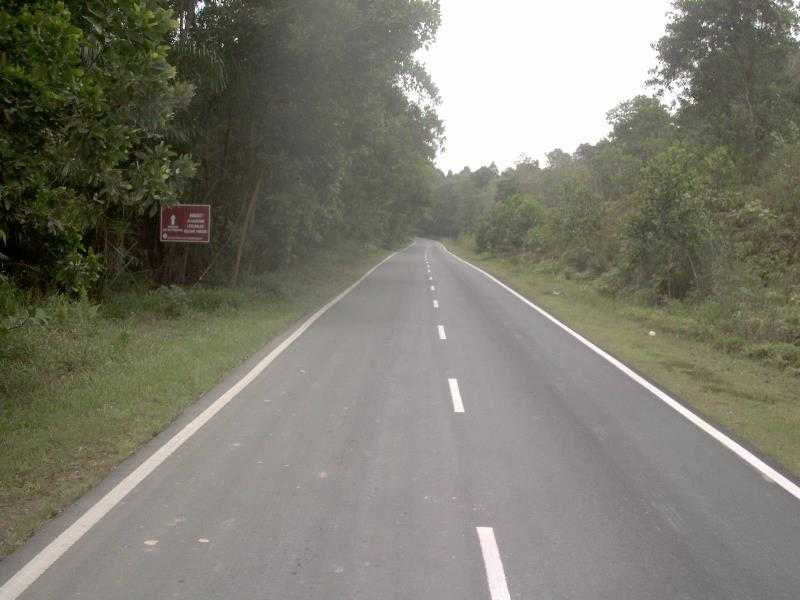ads_sign: (151, 195, 219, 250)
